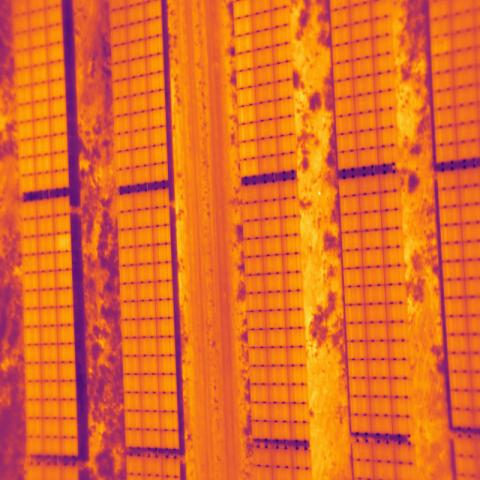fault: (232, 2, 258, 177), (54, 235, 70, 249)
